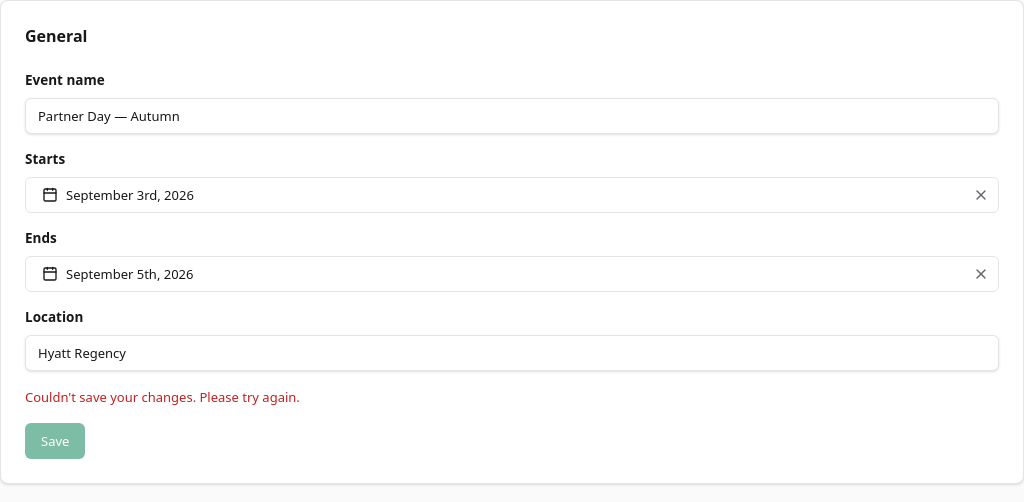
Scenario: GeneralCard › keeps Save disabled until a field is dirty
This screenshot has width=1024, height=502.
Expected: the button "Save" is disabled, [25,423,85,459]
In the field labelled "Location": (512, 353) [25,335,999,371], type "!"
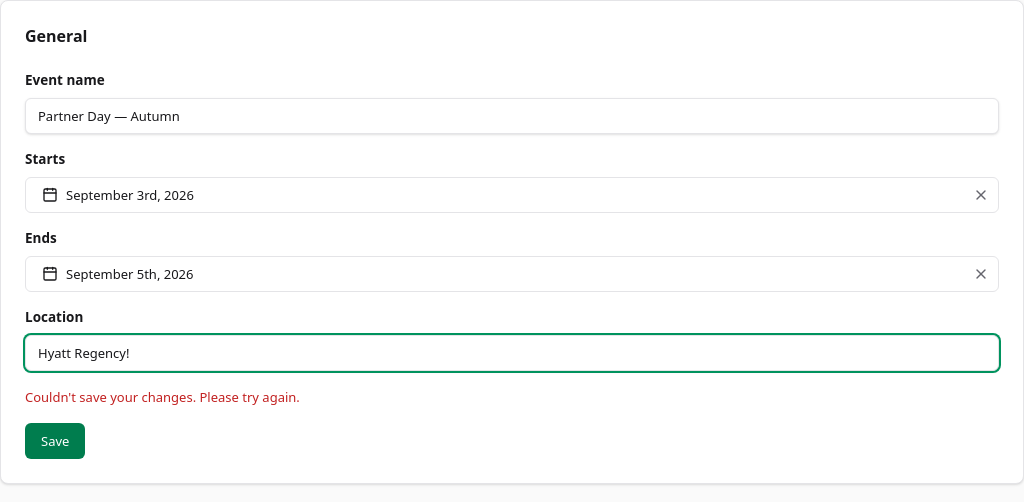
Result: the button "Save" is enabled at [25,423,85,459]
